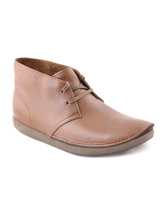shoes: (7, 56, 156, 151)
